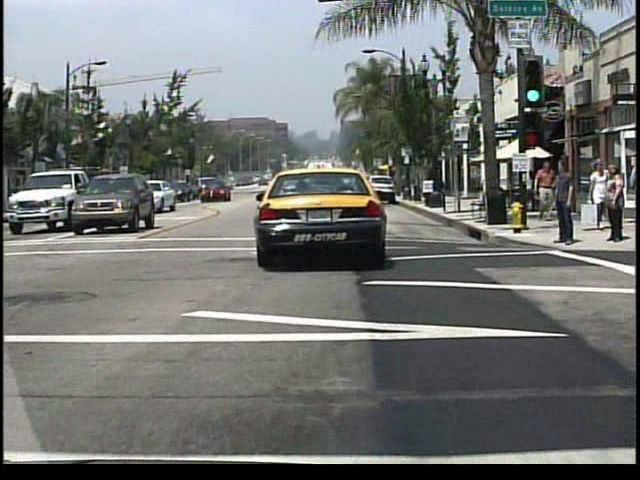person: (552, 155, 574, 244), (601, 164, 623, 243), (590, 158, 608, 232), (536, 163, 556, 218)
